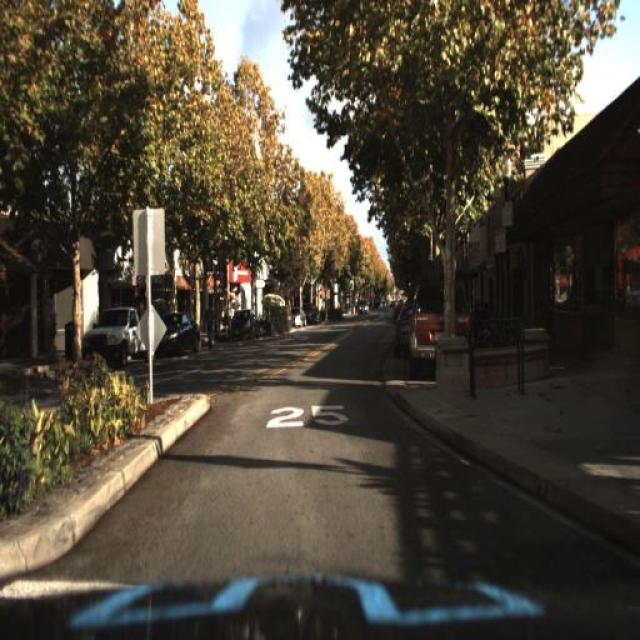car: (406, 276, 472, 379), (82, 308, 146, 372), (153, 309, 201, 362), (389, 293, 415, 362), (222, 305, 260, 345), (284, 304, 308, 328)
trafficLight: (205, 293, 217, 352)
